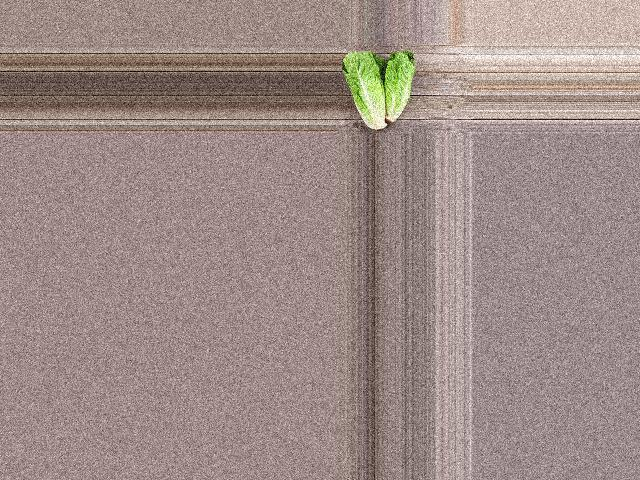lettuce: (340, 48, 387, 133)
